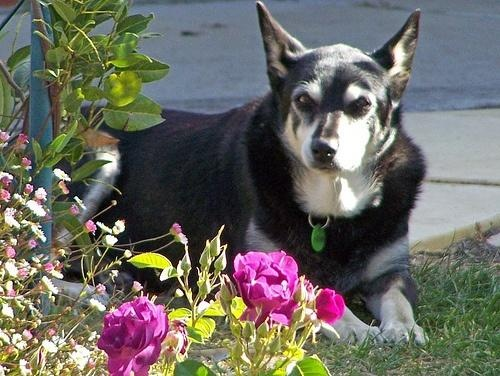dog: (54, 2, 429, 345)
